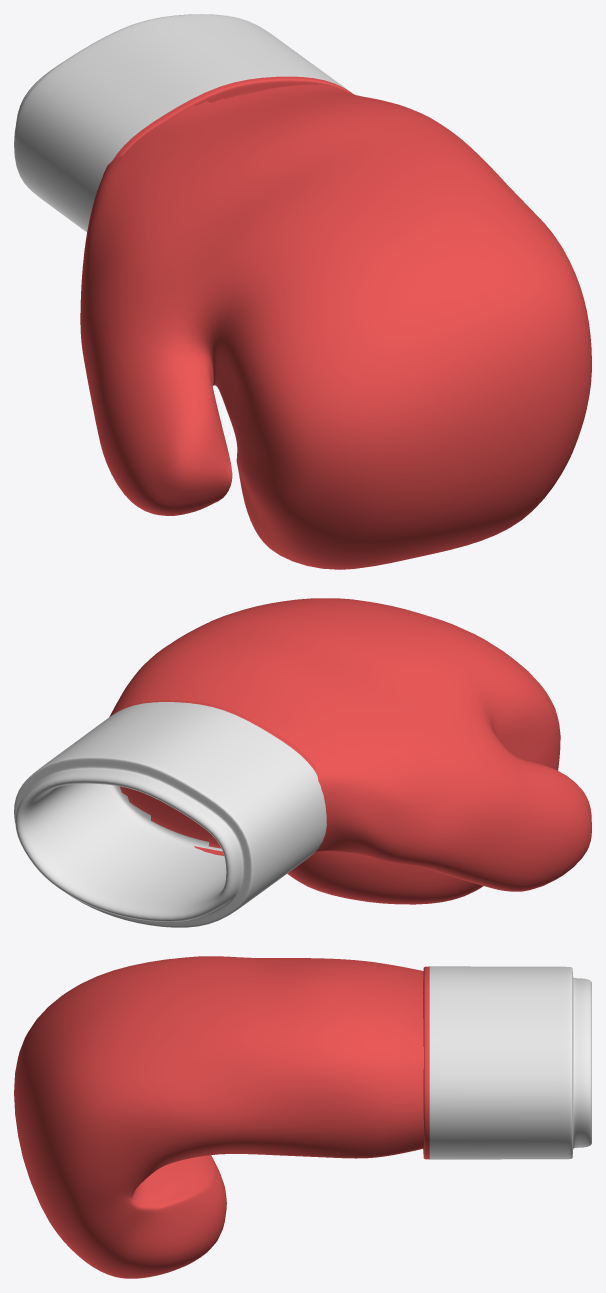
The model's file is punch.fbx.
3 renders of one model, top to bottom at view 1: azimuth 30°, elevation 25°; view 2: azimuth 150°, elevation 25°; view 3: azimuth 270°, elevation 25°, orthographic. The views are drawn at different scales.
Parts seen in each view (by area): view 1: _Leather_Boxing_Gloves_V1_L3:Leather_Boxing_Gloves_V1; view 2: _Leather_Boxing_Gloves_V1_L3:Leather_Boxing_Gloves_V1; view 3: _Leather_Boxing_Gloves_V1_L3:Leather_Boxing_Gloves_V1.
Part boxes in pixels (x1,y1,x2,y2): _Leather_Boxing_Gloves_V1_L3:Leather_Boxing_Gloves_V1: (14, 14, 591, 569); _Leather_Boxing_Gloves_V1_L3:Leather_Boxing_Gloves_V1: (14, 598, 591, 927); _Leather_Boxing_Gloves_V1_L3:Leather_Boxing_Gloves_V1: (14, 956, 591, 1278).
Size of the model in its own units: 14.53 by 10.92 by 20.39.
